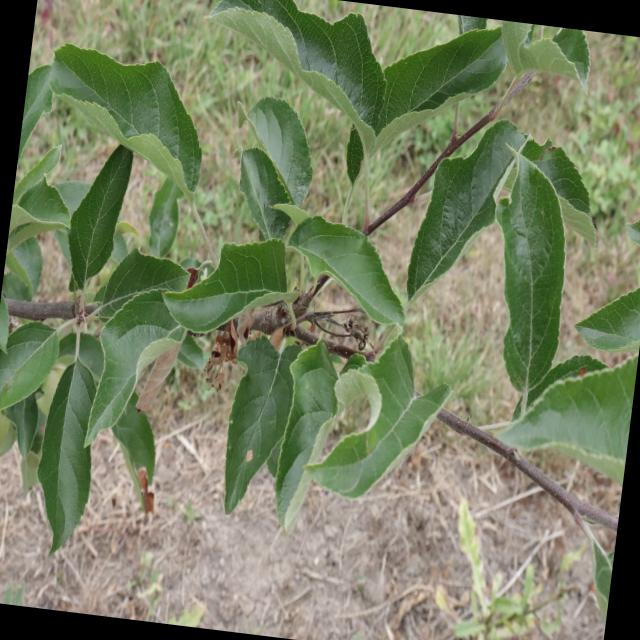-FireBlight-: (124, 338, 184, 412), (209, 308, 254, 378)
